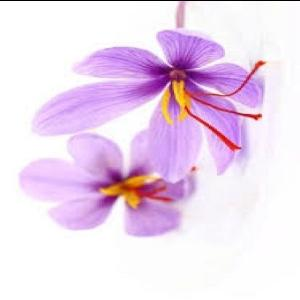Saffron: (33, 29, 263, 177), (16, 126, 196, 236)
